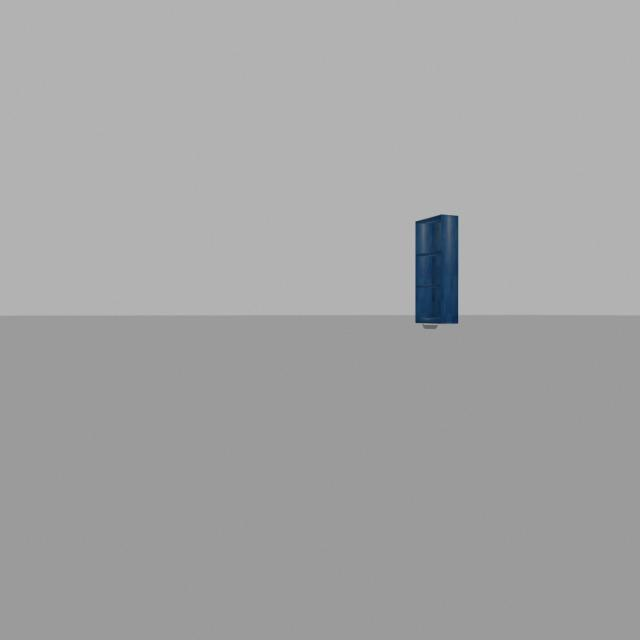bowl: (418, 321, 442, 332)
shelf: (406, 206, 464, 327)
